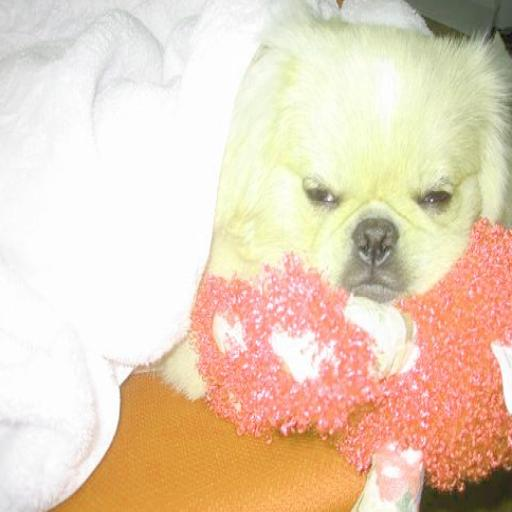dog_face: (254, 18, 504, 285)
